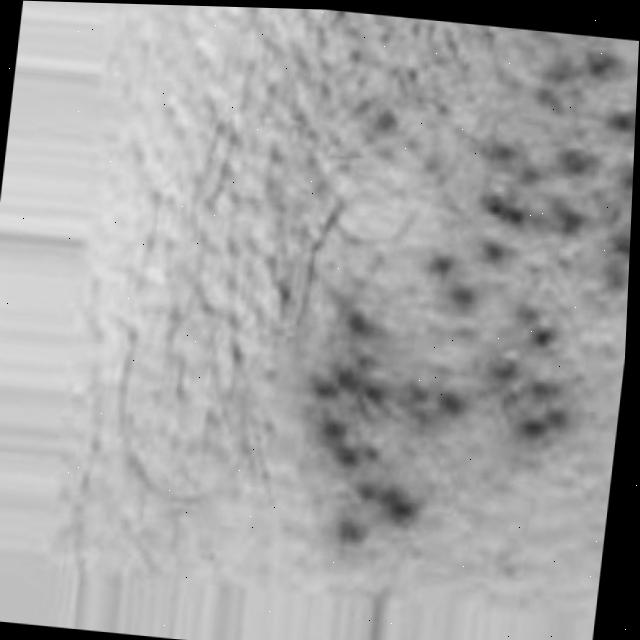Shingles: (286, 10, 640, 578)
